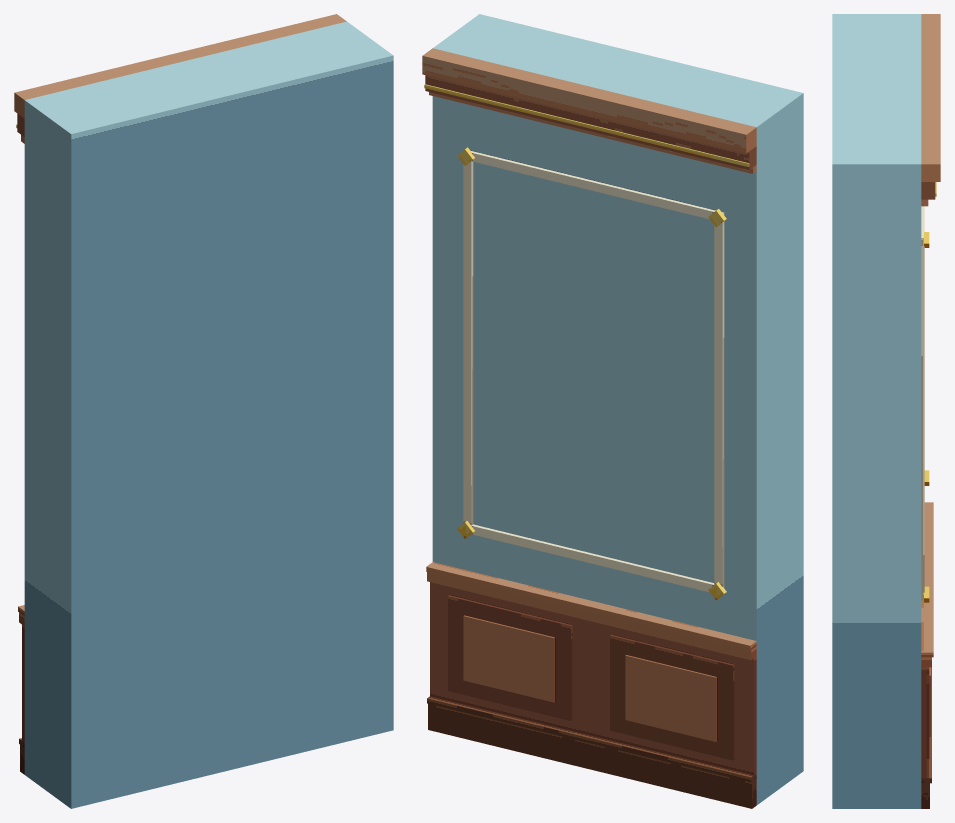
The model's file is wall_panel.gltf.
3 views of the same model, side by side, from view 1: azimuth 30°, elevation 25°; view 2: azimuth 150°, elevation 25°; view 3: azimuth 270°, elevation 25° (orthographic). The views are drawn at different scales.
Parts seen in each view (by area): view 1: plaster_wall, wood_crown_top; view 2: plaster_wall, wood_board, wood_crown_top, wood_skirting, wood_field_0, wood_field_1, wood_inset_1, wood_inset_0, wood_crown_cove, wood_chair_cap, cream_frame_left, cream_frame_right (+6 smaller); view 3: plaster_wall, wood_crown_top, wood_chair_cap, cream_frame_right, wood_board, wood_field_1, wood_skirting_bead, wood_crown_cove, wood_skirting.
Part boxes in pixels (left/top/right/bottom): plaster_wall: left=24, top=21, right=393, bottom=808; wood_crown_top: left=14, top=14, right=346, bottom=118; plaster_wall: left=432, top=14, right=803, bottom=805; wood_board: left=430, top=582, right=756, bottom=775; wood_crown_top: left=422, top=48, right=756, bottom=153; wood_skirting: left=428, top=703, right=756, bottom=808; wood_field_0: left=610, top=634, right=734, bottom=760; wood_field_1: left=448, top=595, right=572, bottom=720; wood_inset_1: left=463, top=615, right=554, bottom=702; wood_inset_0: left=625, top=655, right=716, bottom=741; wood_crown_cove: left=425, top=75, right=756, bottom=169; wood_chair_cap: left=426, top=562, right=756, bottom=650; cream_frame_left: left=714, top=221, right=724, bottom=586; cream_frame_right: left=463, top=161, right=473, bottom=525; plaster_wall: left=832, top=14, right=921, bottom=808; wood_crown_top: left=921, top=14, right=940, bottom=181; wood_chair_cap: left=921, top=502, right=933, bottom=657; cream_frame_right: left=921, top=246, right=924, bottom=592; wood_board: left=921, top=667, right=926, bottom=778; wood_field_1: left=926, top=667, right=929, bottom=758; wood_skirting_bead: left=921, top=667, right=931, bottom=783; wood_crown_cove: left=921, top=182, right=935, bottom=199; wood_skirting: left=921, top=783, right=929, bottom=808.
Size of the model in its own units: 2 by 4 by 0.61.
3 materials, 3 textured.
